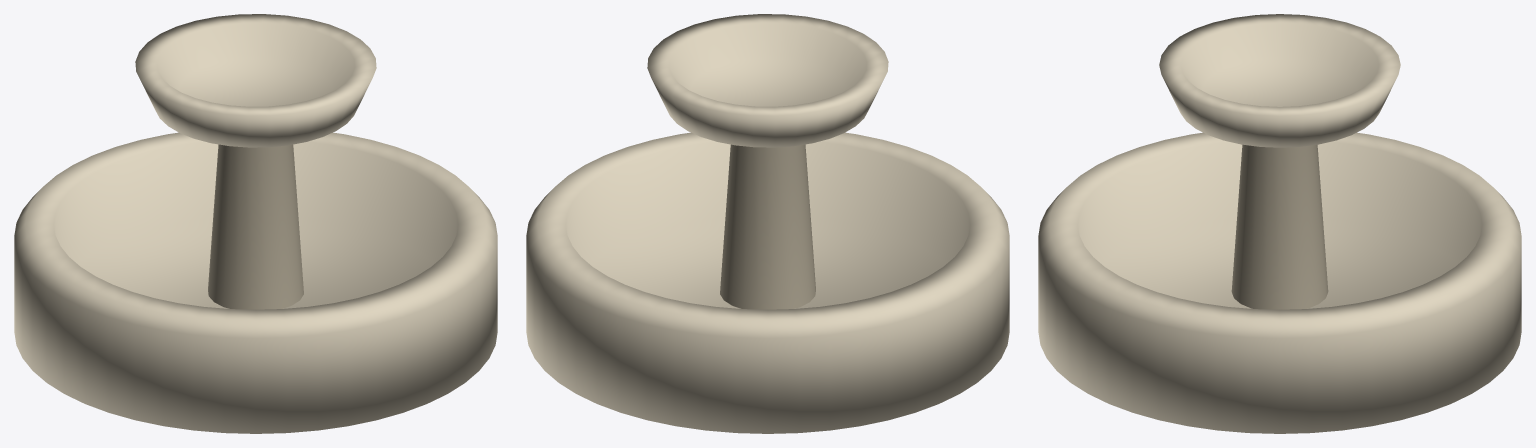
Rendered from fountain_0.glb.
3 views of the same model, side by side, from view 1: azimuth 30°, elevation 25°; view 2: azimuth 150°, elevation 25°; view 3: azimuth 270°, elevation 25° (orthographic).
Parts seen in each view (by area): view 1: fountain_0; view 2: fountain_0; view 3: fountain_0.
Boxes of the visible parts, left/top/right/bottom form: fountain_0: left=14, top=14, right=497, bottom=433; fountain_0: left=526, top=14, right=1009, bottom=433; fountain_0: left=1038, top=14, right=1521, bottom=433.
Bounding box in the file's own units: 1.1 × 0.67 × 1.1.
